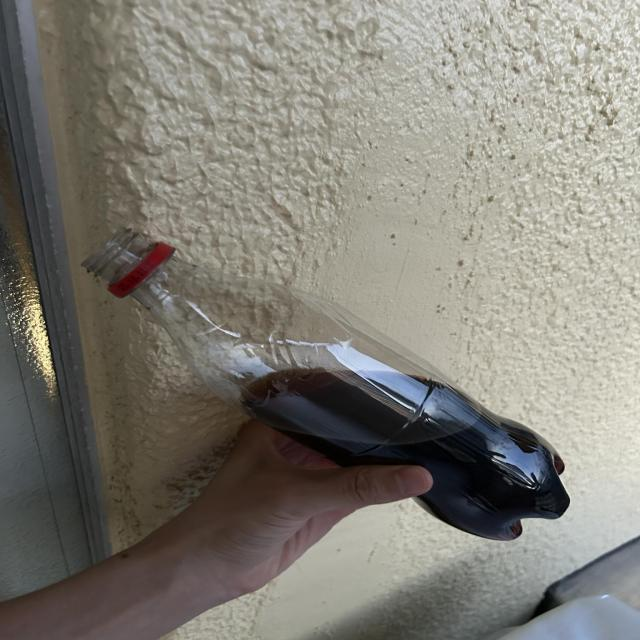medium: (83, 229, 570, 540)
